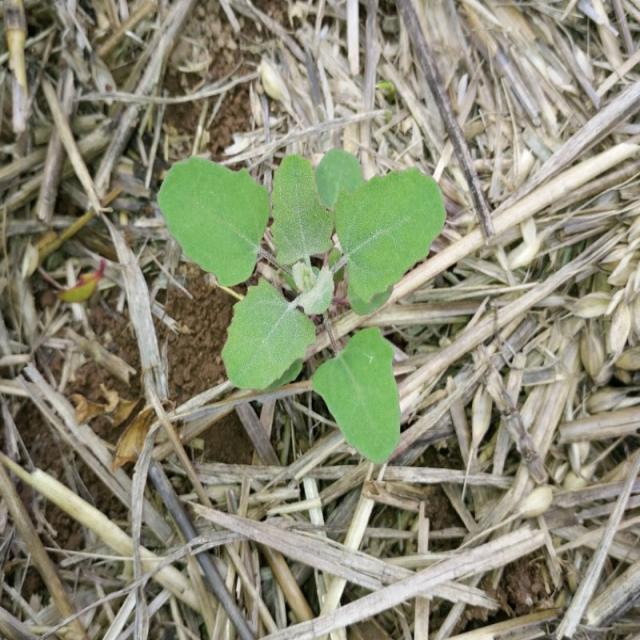ca: (160, 147, 444, 463)
